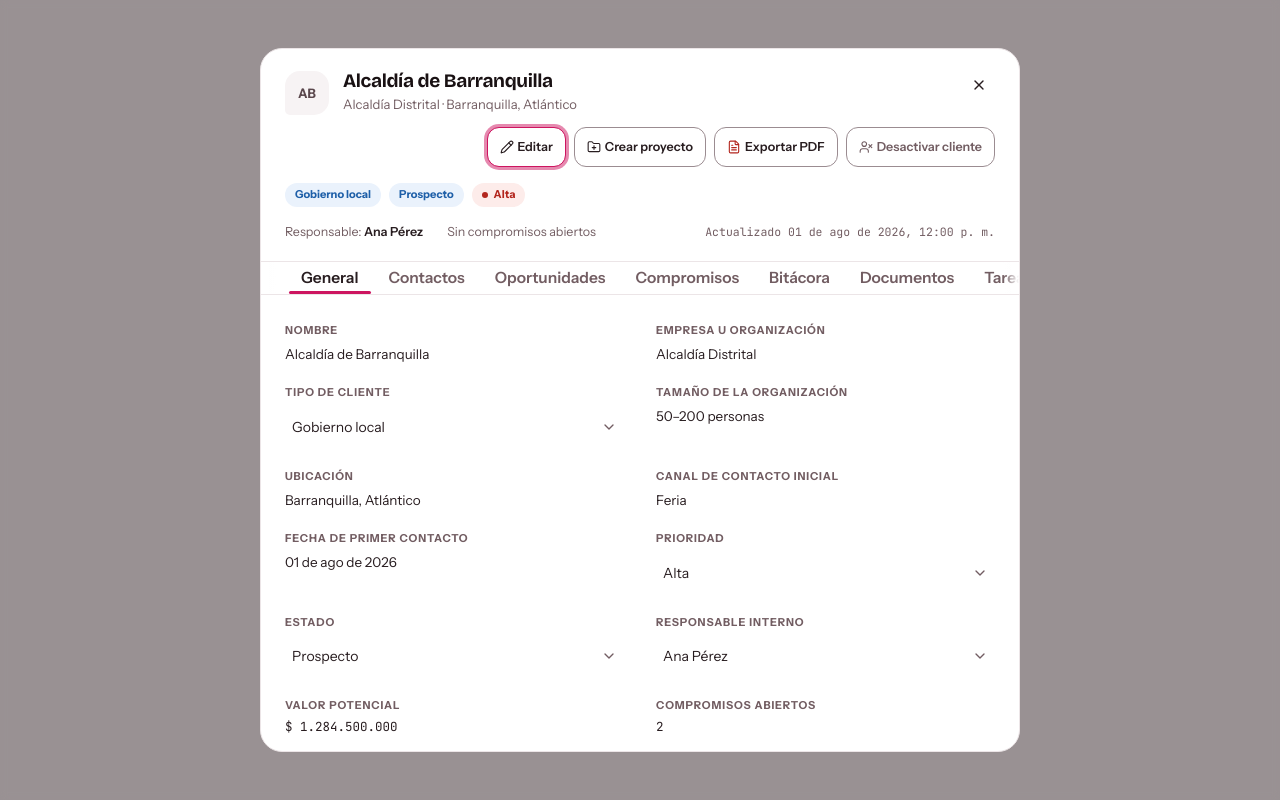
it: ClientSheet — General tab inline editing (QA audit finding #3) › cancels an in-progress edit on Escape without saving
Click the button "Alcaldía de Barranquilla": (357, 354) [279, 342, 618, 365]
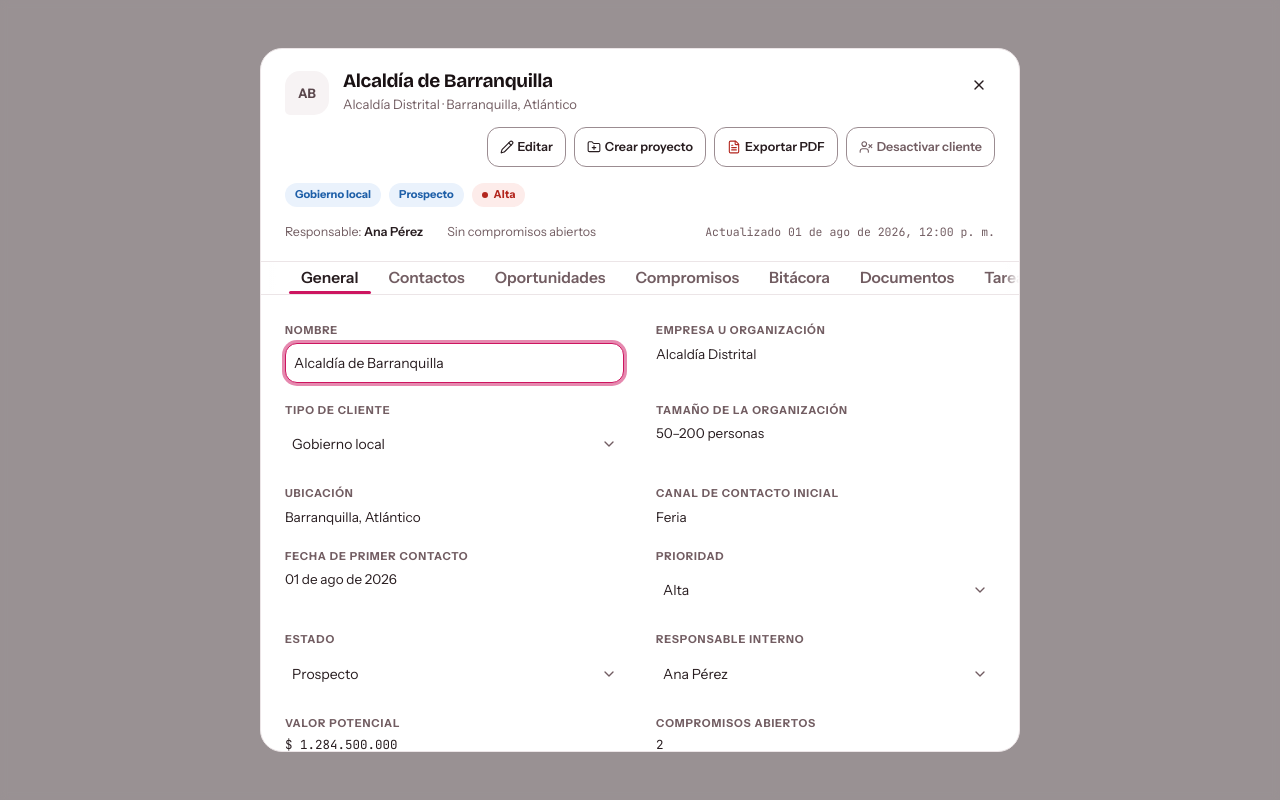
In the field showing "Alcaldía de Barranquilla": (454, 362) [285, 342, 624, 382], type " (borrador)"
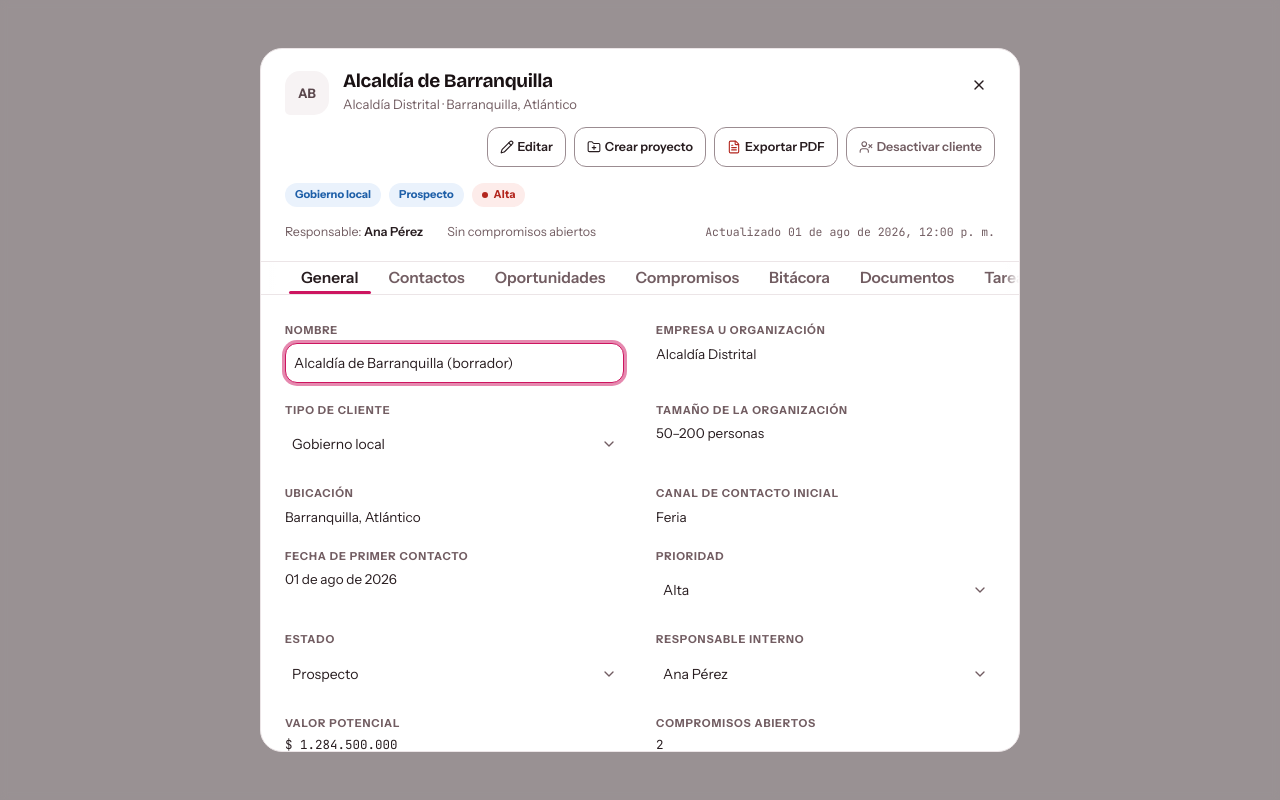
Press Escape
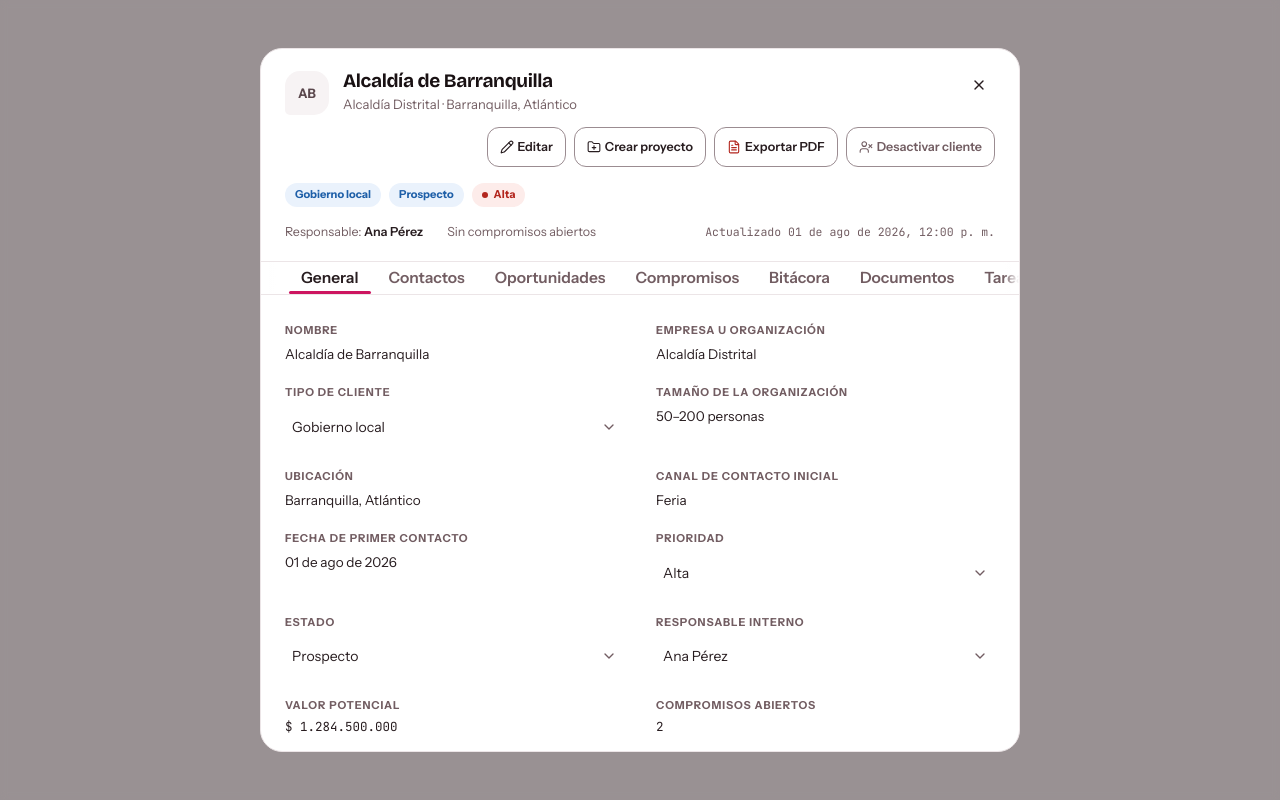
expect the button "Alcaldía de Barranquilla" is shown: met, box [279, 342, 618, 365]
